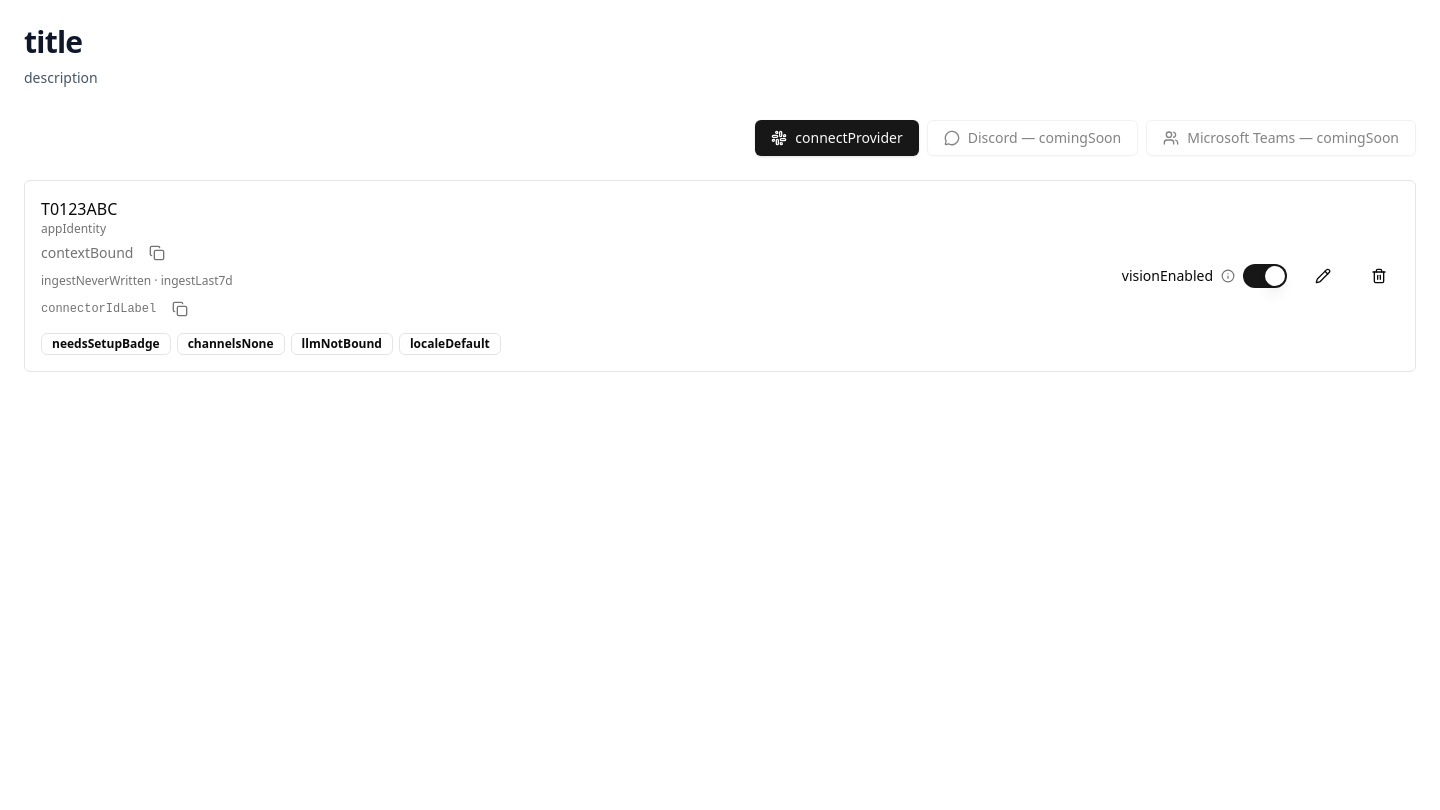
Scenario: ConnectorsPage RBAC gate › marks an un-vendable row 要設定 and opens settings from a missing badge (#1389)
Expected: the text "T0123ABC" is shown, [41,198,117,220]
Expected: the text "needsSetupBadge" is shown, [41,333,171,355]
A missing badge is an affordance: clicking opens the settings dialog.
Click the button with aria-label "fixChannels": (231, 344) [177,333,285,355]
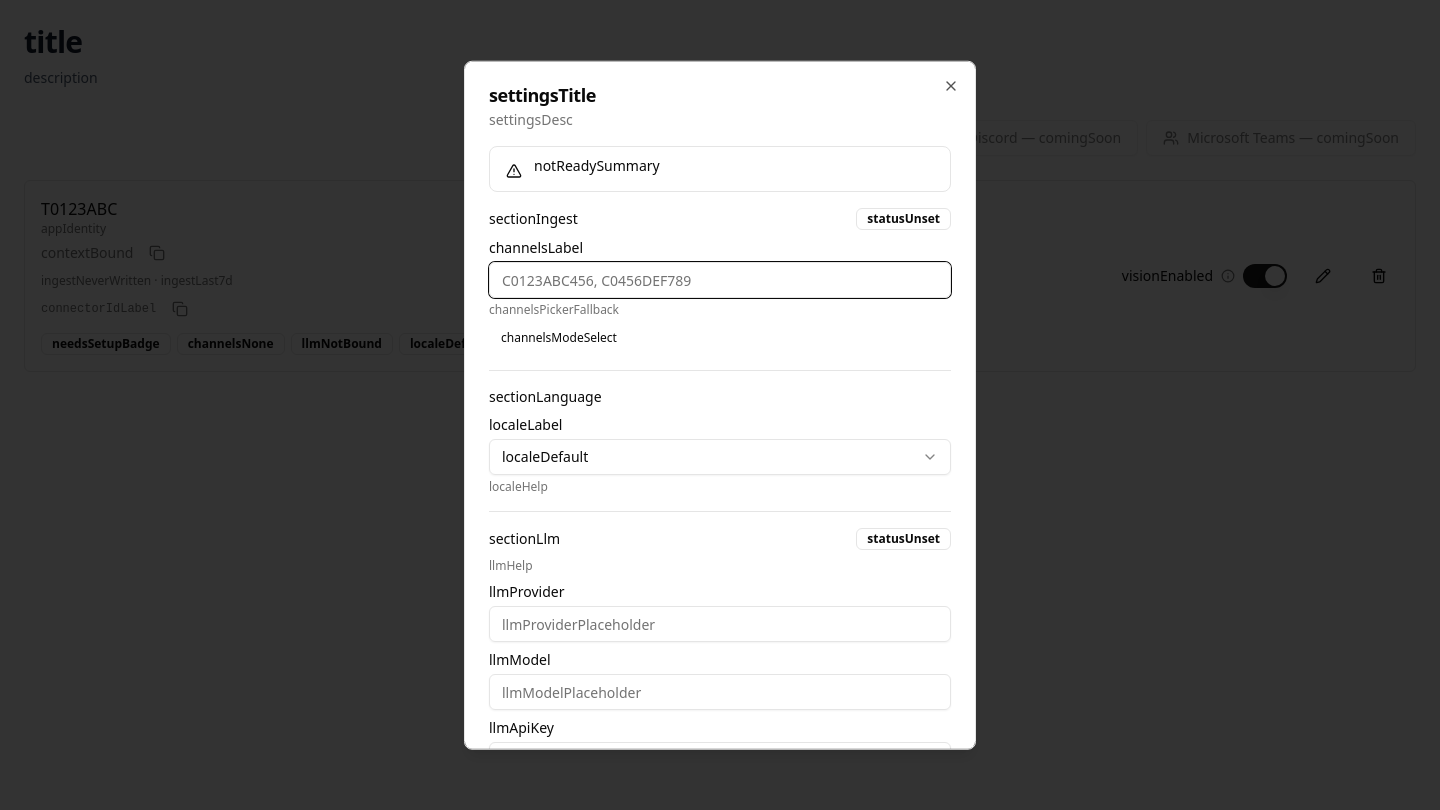
Expected: the heading "settingsTitle" is shown, [489,83,596,107]
